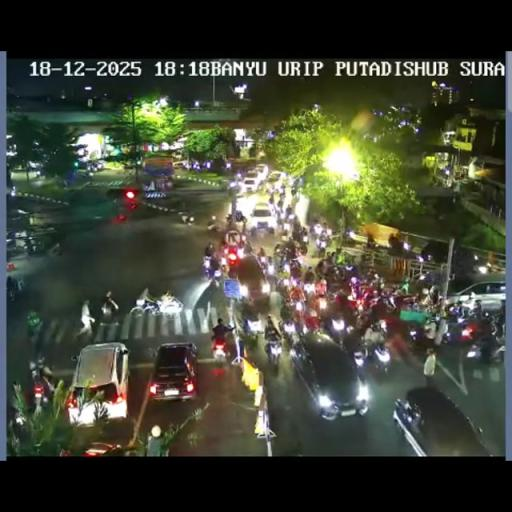Car: (392, 384, 495, 454), (288, 331, 370, 418), (66, 342, 130, 425), (148, 342, 198, 402), (420, 241, 482, 277), (444, 281, 505, 313), (222, 230, 246, 264), (249, 204, 274, 231), (82, 441, 122, 455), (241, 176, 261, 192), (250, 163, 269, 179), (266, 170, 286, 184), (86, 160, 106, 172), (172, 160, 190, 169)
Motorcycle: (406, 310, 450, 353), (357, 333, 390, 376), (6, 395, 32, 448), (385, 323, 415, 368), (344, 280, 378, 314), (323, 310, 350, 342), (30, 368, 50, 410), (263, 326, 283, 366), (416, 267, 446, 290), (76, 299, 94, 337), (130, 295, 162, 316), (241, 309, 264, 337), (486, 333, 506, 362), (200, 257, 222, 283), (210, 332, 229, 362), (301, 306, 321, 334), (102, 291, 118, 324), (287, 284, 306, 310), (339, 260, 360, 282), (380, 290, 400, 312), (280, 316, 298, 339), (256, 254, 273, 278), (315, 256, 334, 277), (415, 288, 434, 308), (369, 318, 387, 338), (26, 310, 42, 332), (206, 218, 226, 234), (276, 262, 290, 284), (288, 259, 302, 281), (370, 274, 386, 293), (6, 276, 18, 301), (46, 240, 62, 258), (226, 258, 240, 278), (274, 243, 288, 263), (314, 236, 329, 254), (268, 200, 282, 218), (178, 210, 194, 225), (310, 222, 324, 239), (314, 278, 326, 297), (234, 210, 248, 226), (243, 239, 256, 256), (397, 277, 410, 294), (315, 295, 328, 312), (25, 236, 37, 254), (470, 300, 482, 318), (303, 279, 315, 295), (291, 179, 302, 196), (260, 276, 270, 294), (366, 235, 378, 249), (285, 208, 295, 224), (228, 178, 239, 191), (162, 177, 173, 190), (299, 230, 309, 244), (264, 182, 274, 196), (290, 193, 298, 210), (248, 224, 258, 237), (282, 221, 291, 235), (205, 242, 214, 256), (278, 183, 286, 197), (225, 213, 233, 224), (85, 168, 92, 179), (34, 168, 41, 178), (235, 171, 242, 181), (10, 189, 15, 197)
